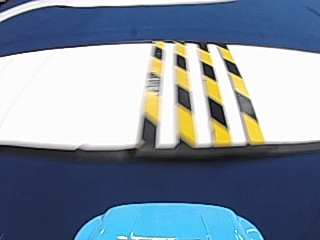bump: (123, 45, 265, 146)
